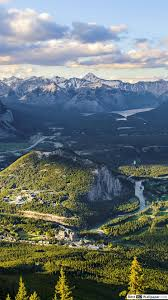field: (8, 142, 166, 293)
mountain: (2, 79, 166, 154)
sky: (2, 4, 166, 77)
